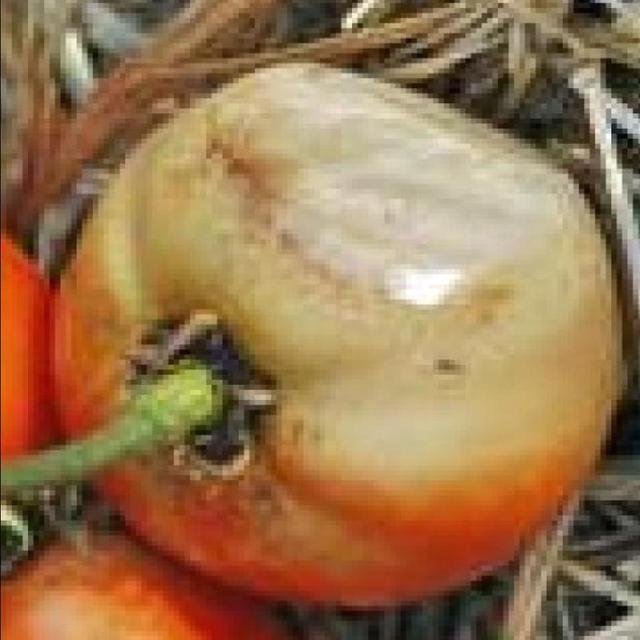Sunscald Fruit: (63, 50, 402, 332)
